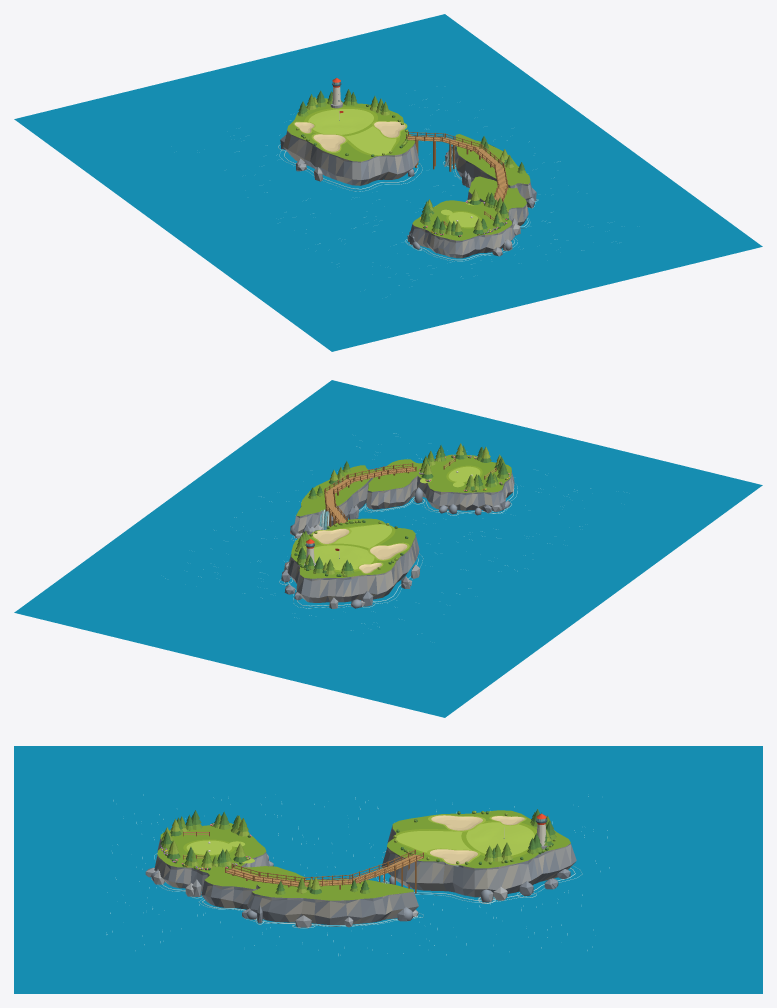
The model's file is hole_12.fbx.
3 views of the same model, one above another, from view 1: azimuth 30°, elevation 25°; view 2: azimuth 150°, elevation 25°; view 3: azimuth 270°, elevation 25° (orthographic). The views are drawn at different scales.
Visible parts, largest first — view 1: WATER_WAVES, TERRAIN_GREEN_ISLAND, TERRAIN_TEE_APPROACH, TREES, TERRAIN_PROMONTORY, GREEN, BRIDGE_RAILS, ROCKS, FAIRWAY, BRIDGE_PLANKS, WATER_FOAM; view 2: WATER_WAVES, TERRAIN_TEE_APPROACH, TERRAIN_GREEN_ISLAND, TREES, TERRAIN_PROMONTORY, ROCKS, GREEN, BRIDGE_RAILS, FAIRWAY, BRIDGE_PLANKS, WATER_FOAM; view 3: WATER_WAVES, TERRAIN_GREEN_ISLAND, TERRAIN_PROMONTORY, TERRAIN_TEE_APPROACH, TREES, ROCKS, GREEN, BRIDGE_RAILS, FAIRWAY, BRIDGE_PLANKS, WATER_FOAM, BUNKER_00 (+3 smaller).
Boxes of the visible parts, x1,y1,x2,y2 form: WATER_WAVES: [14, 14, 762, 351]; TERRAIN_GREEN_ISLAND: [283, 98, 418, 185]; TERRAIN_TEE_APPROACH: [410, 176, 528, 258]; TREES: [297, 89, 525, 235]; TERRAIN_PROMONTORY: [454, 134, 532, 200]; GREEN: [308, 109, 373, 134]; BRIDGE_RAILS: [406, 131, 508, 201]; ROCKS: [280, 135, 536, 256]; FAIRWAY: [345, 126, 396, 155]; BRIDGE_PLANKS: [408, 135, 507, 201]; WATER_FOAM: [278, 144, 538, 261]; WATER_WAVES: [14, 380, 762, 717]; TERRAIN_TEE_APPROACH: [366, 454, 514, 510]; TERRAIN_GREEN_ISLAND: [287, 518, 419, 602]; TREES: [296, 443, 509, 574]; TERRAIN_PROMONTORY: [293, 465, 375, 533]; ROCKS: [281, 487, 510, 608]; GREEN: [314, 545, 374, 570]; BRIDGE_RAILS: [324, 463, 416, 528]; FAIRWAY: [333, 524, 391, 548]; BRIDGE_PLANKS: [325, 467, 415, 523]; WATER_FOAM: [279, 484, 517, 608]; WATER_WAVES: [14, 746, 762, 993]; TERRAIN_GREEN_ISLAND: [381, 810, 576, 897]; TERRAIN_PROMONTORY: [247, 879, 418, 924]; TERRAIN_TEE_APPROACH: [154, 823, 305, 909]; TREES: [160, 809, 556, 894]; ROCKS: [145, 854, 570, 927]; GREEN: [466, 822, 534, 855]; BRIDGE_RAILS: [225, 849, 423, 893]; FAIRWAY: [395, 831, 470, 852]; BRIDGE_PLANKS: [225, 854, 423, 886]; WATER_FOAM: [154, 851, 582, 928]; BUNKER_00: [428, 814, 485, 831].
Size of what is drawn, in the model's own units: 360 by 49.69 by 460.
